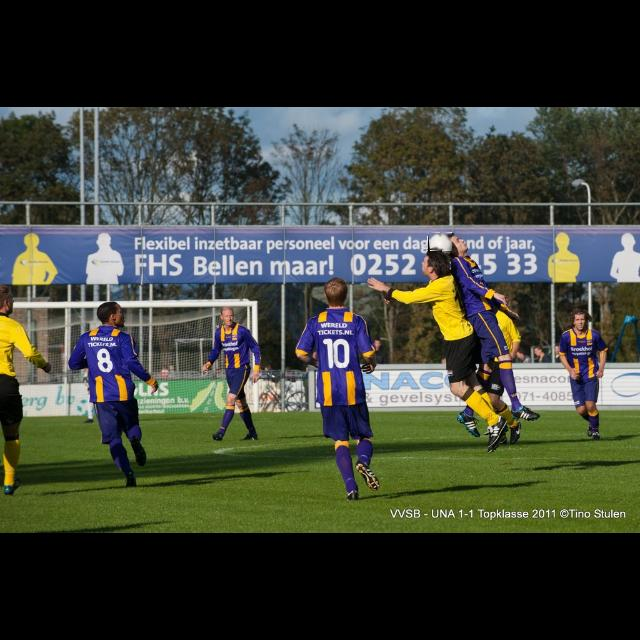Football: (428, 232, 452, 252)
